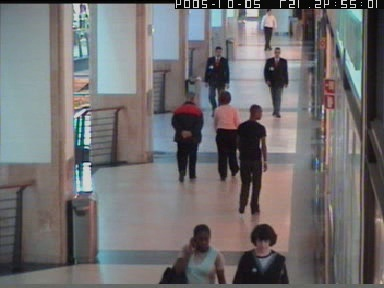person: (157, 222, 227, 284), (236, 105, 267, 217), (233, 223, 289, 282), (170, 94, 204, 182), (214, 90, 242, 182), (263, 46, 287, 117), (204, 47, 228, 115), (261, 9, 278, 51)
